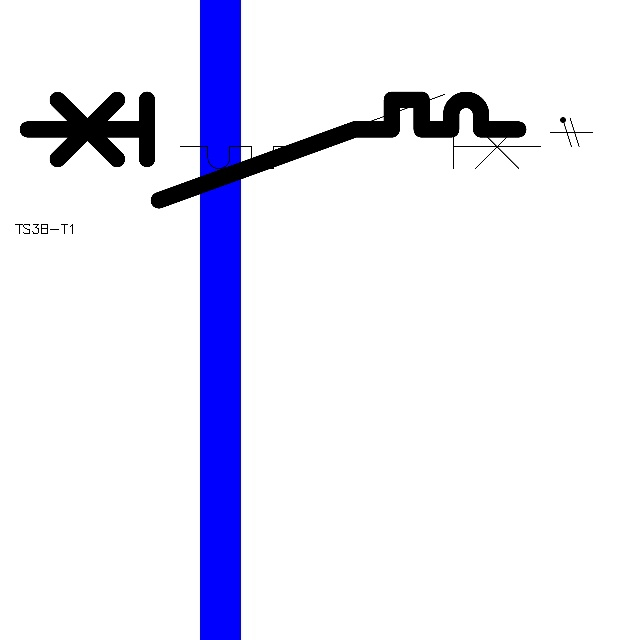interruptor_termomagnetico: (15, 87, 531, 213), (171, 85, 550, 178)
